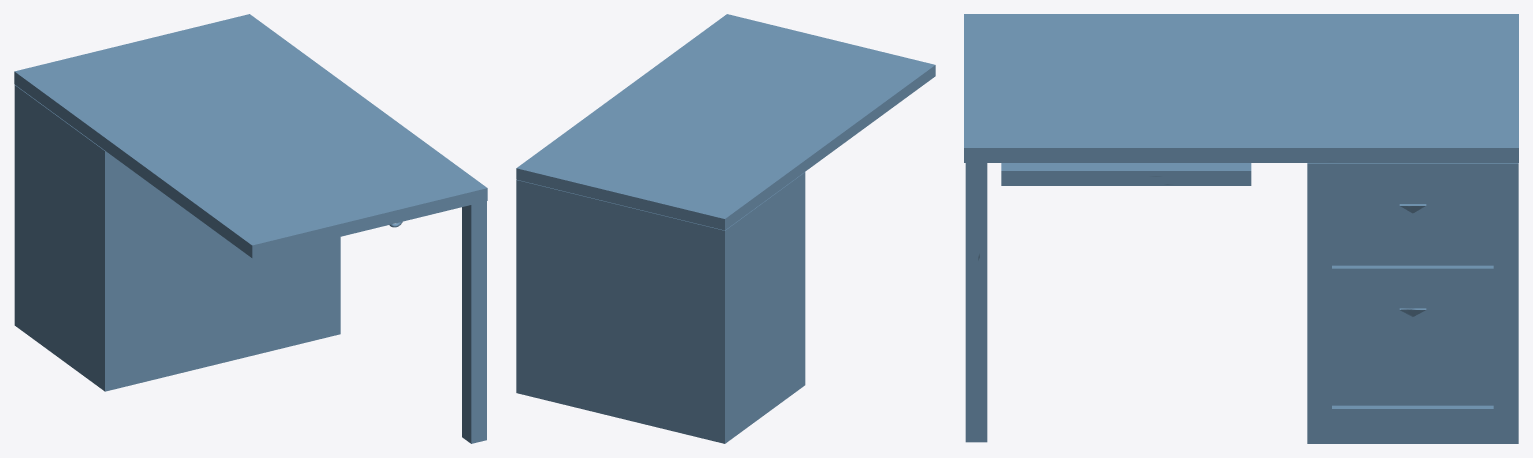
The model's file is escritorio.obj.
The picture shows the model from 3 angles, left to right: view 1: azimuth 30°, elevation 25°; view 2: azimuth 150°, elevation 25°; view 3: azimuth 270°, elevation 25°; orthographic projection. The views are drawn at different scales.
Parts seen in each view (by area): view 1: Cubo, Cubo.001, Cubo.002; view 2: Cubo.001, Cubo; view 3: Cubo, Cubo.001, Cubo.002, Cubo.003.
Part boxes in pixels (x1=…): Cubo: x1=14, y1=14, x2=487, y2=258; Cubo.001: x1=14, y1=85, x2=340, y2=391; Cubo.002: x1=462, y1=201, x2=486, y2=443; Cubo.001: x1=516, y1=172, x2=805, y2=443; Cubo: x1=516, y1=14, x2=935, y2=230; Cubo: x1=964, y1=14, x2=1518, y2=162; Cubo.001: x1=1307, y1=163, x2=1518, y2=443; Cubo.002: x1=965, y1=163, x2=987, y2=442; Cubo.003: x1=1001, y1=163, x2=1251, y2=185.
Size of the model in its own units: 0.8515 by 0.8411 by 1.43.
5 materials, 5 textured.
